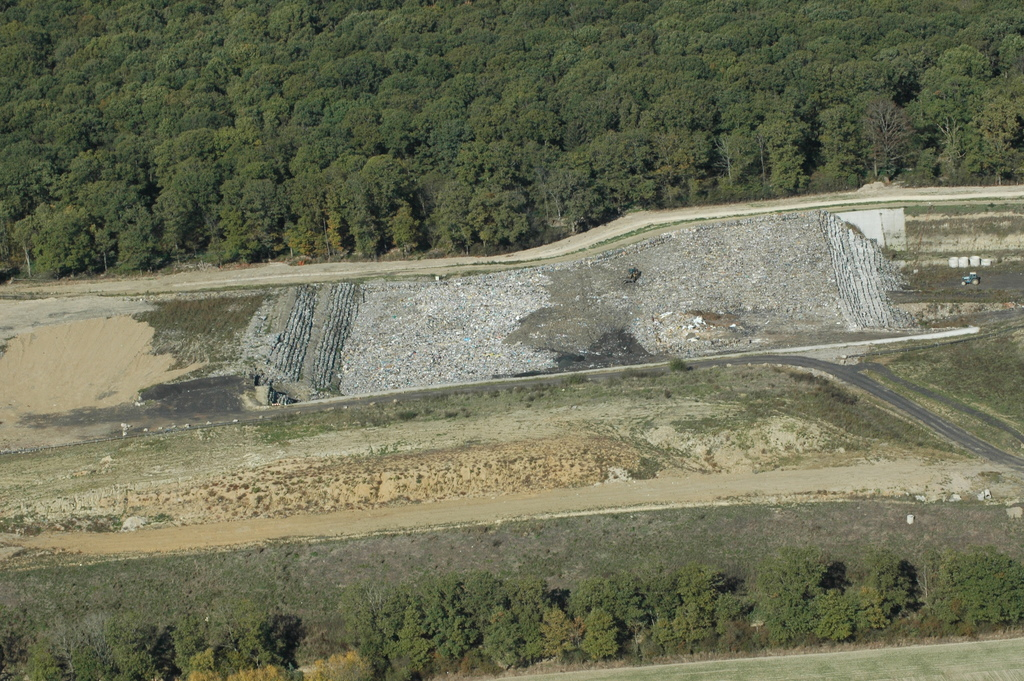Tree: (0, 0, 1024, 281), (0, 567, 1024, 681)
